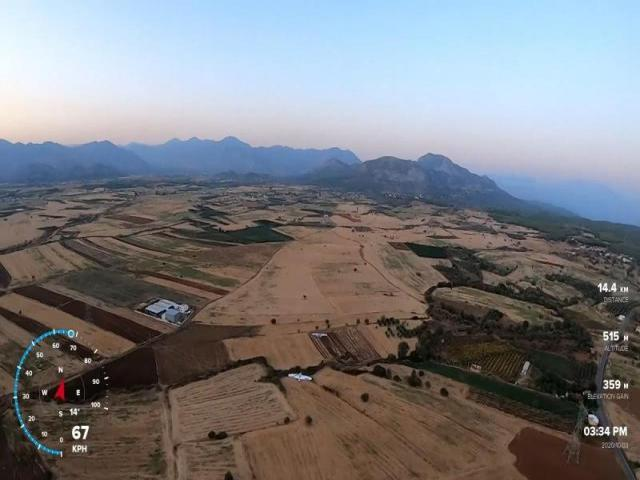hedef: (278, 364, 320, 386)
